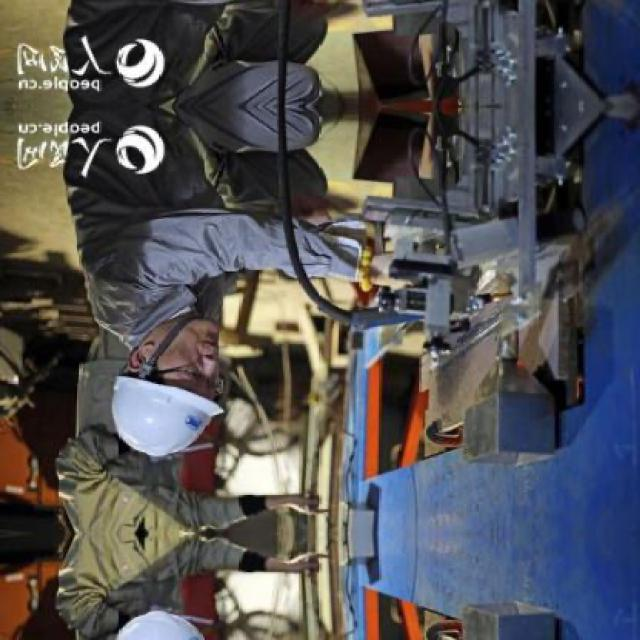con casco: (136, 291, 308, 460)
